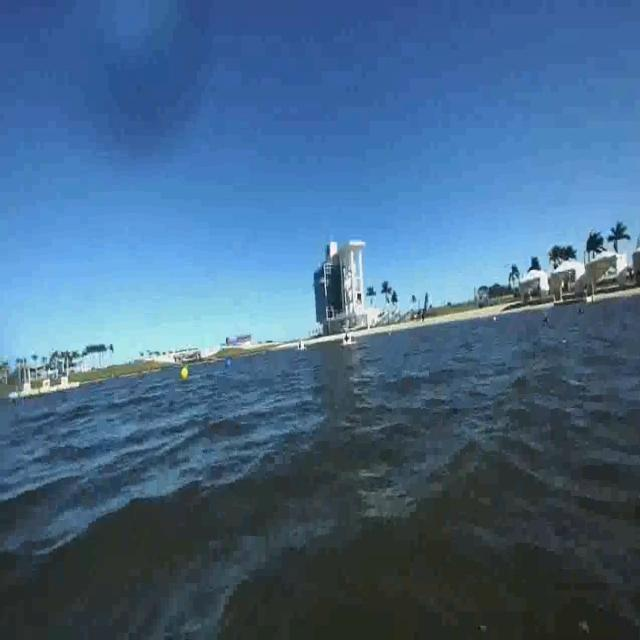yellow-buoy: (182, 364, 192, 381)
